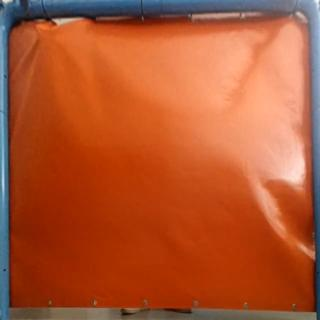Hit-hRxx: (32, 23, 52, 40)
